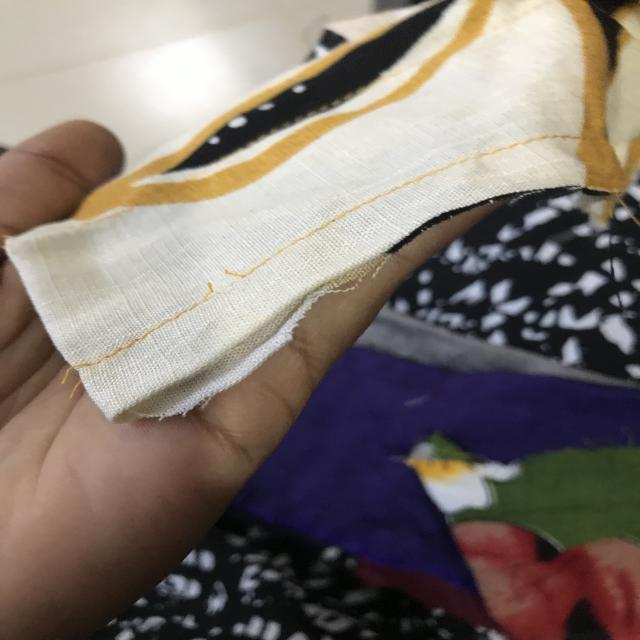broken: (188, 257, 250, 307)
